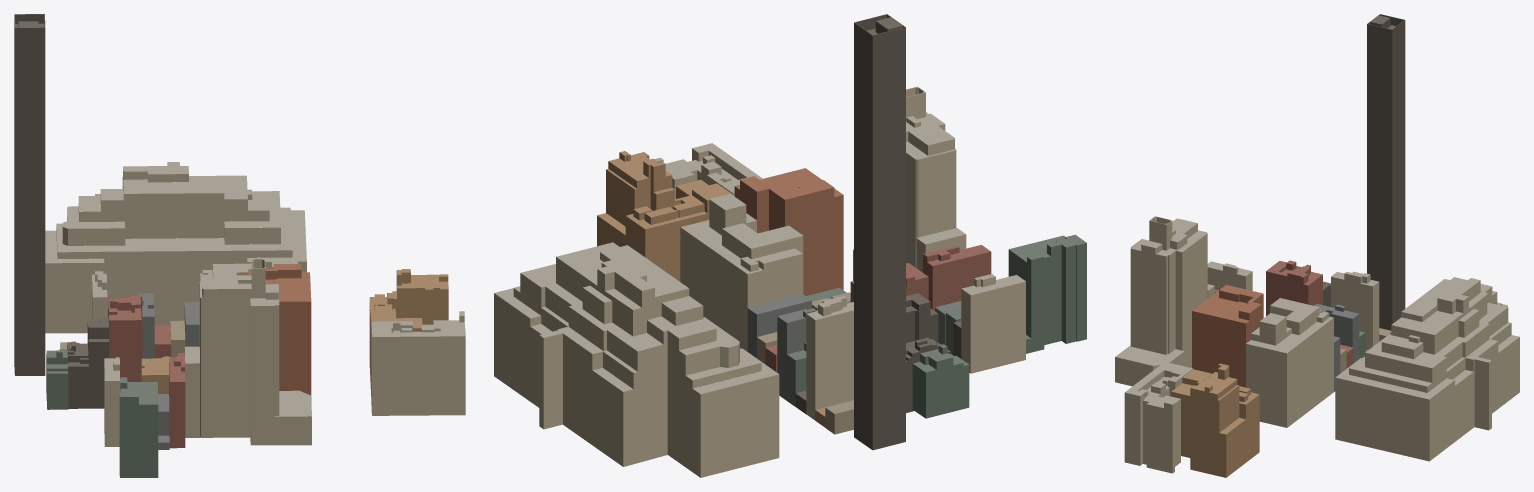
The model's file is tile-4_-6.glb.
3 renders of one model, left to right at view 1: azimuth 30°, elevation 25°; view 2: azimuth 150°, elevation 25°; view 3: azimuth 270°, elevation 25°, orthographic. The views are drawn at different scales.
Visible parts, largest first — view 1: wall, roof; view 2: wall, roof; view 3: wall, roof.
Boxes of the visible parts, <box> form: wall: <box>14,14,465,477</box>; roof: <box>14,14,465,442</box>; wall: <box>494,14,1086,477</box>; roof: <box>494,14,1086,416</box>; wall: <box>1115,14,1519,477</box>; roof: <box>1115,14,1519,434</box>.
Bounding box in the file's own units: 210 × 195 × 225.
